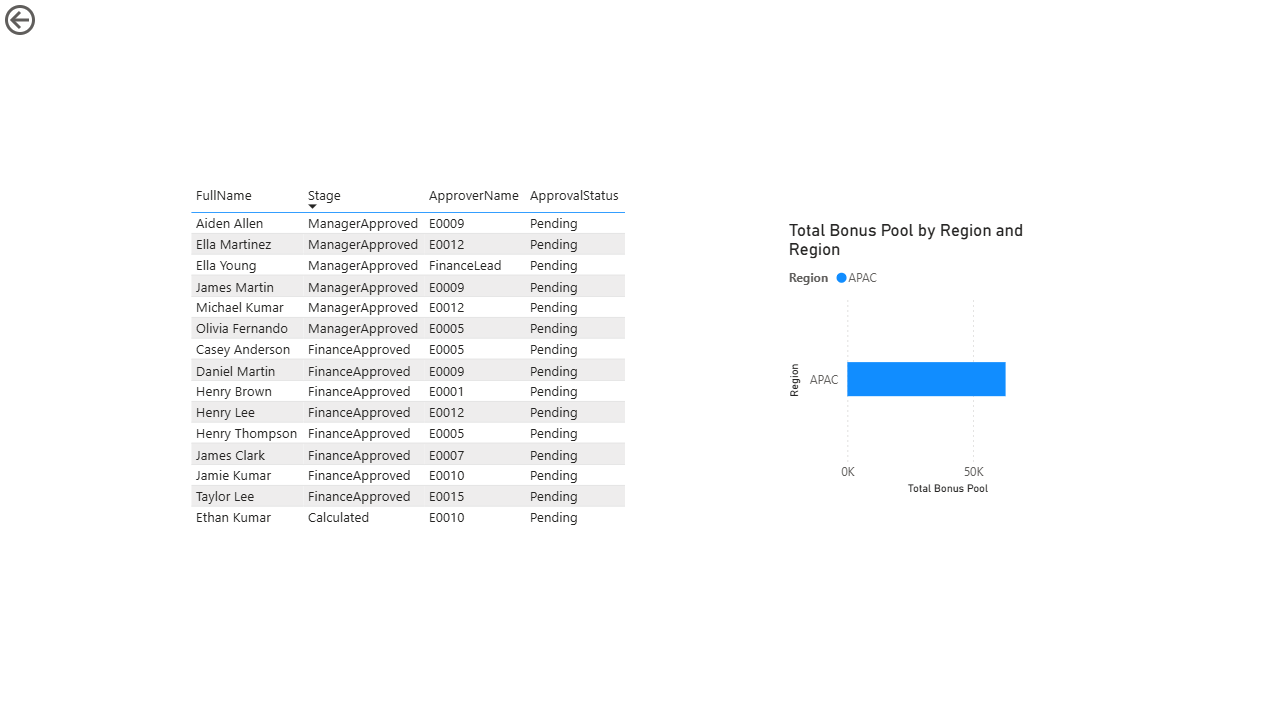

The dashboard page shown, as its layout file describes it:
{"tool":"powerbi","page":{"name":"Process Governance","canvas":[1280,720],"ordinal":1},"visuals":[{"type":"barChart","fields":{"Category":["EmployeeMaster.Region"],"Y":["BonusCalculations.Total Bonus Pool"],"Series":["EmployeeMaster.Region"]},"box":[783.8,220,280,280],"z":0},{"type":"tableEx","fields":{"Values":["EmployeeMaster.FullName","Approvals.Stage","Approvals.ApproverName","Approvals.ApprovalStatus"]},"box":[185,178.8,500,362.5],"z":1000},{"type":"actionButton","box":[0,0,100,40],"z":2000}]}

Visuals, with their boxes in screenshot pixels (x1, y1, x2, y2), scaled from the page's 1280x720 canvas onto the 1276x718 screenshot:
barChart - EmployeeMaster.Region x BonusCalculations.Total Bonus Pool: [x1=781, y1=219, x2=1060, y2=499]
tableEx - EmployeeMaster.FullName x Approvals.Stage: [x1=184, y1=178, x2=683, y2=540]
actionButton: [x1=0, y1=0, x2=100, y2=40]
